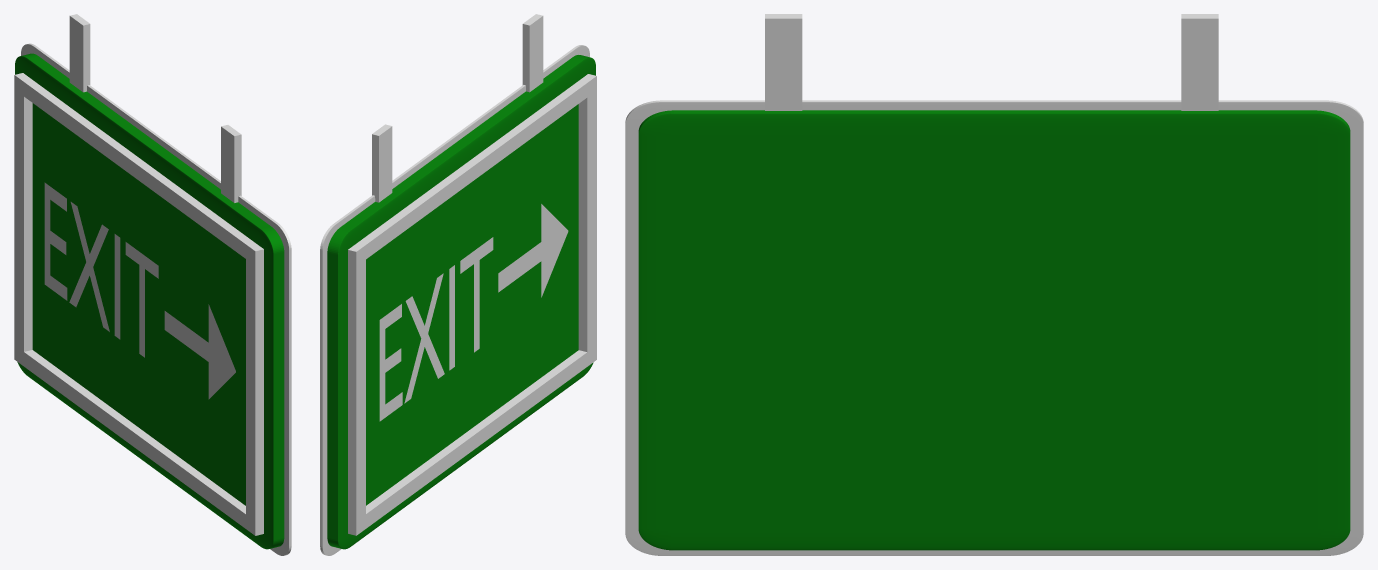
The model's file is Exit right.fbx.
3 renders of one model, left to right at view 1: azimuth 30°, elevation 25°; view 2: azimuth 150°, elevation 25°; view 3: azimuth 270°, elevation 25°, orthographic. The views are drawn at different scales.
Visible parts, largest first — view 1: Cube.111, Cube.207, Cube.209, Text, Cube.216, Cube.217, Plane.001, Plane; view 2: Cube.111, Cube.207, Cube.209, Text, Cube.217, Cube.216, Plane.001, Plane; view 3: Cube.111, Cube.209, Cube.216, Cube.217.
Part boxes in pixels (x1,y1,x2,y2): Cube.111: [15, 53, 284, 549]; Cube.207: [14, 73, 263, 535]; Cube.209: [21, 43, 291, 555]; Text: [44, 182, 158, 357]; Cube.216: [69, 14, 90, 92]; Cube.217: [221, 125, 241, 202]; Plane.001: [208, 304, 235, 399]; Plane: [164, 311, 209, 362]; Cube.111: [327, 55, 595, 549]; Cube.207: [348, 74, 596, 535]; Cube.209: [320, 45, 589, 555]; Text: [379, 237, 493, 421]; Cube.217: [522, 14, 543, 92]; Cube.216: [372, 124, 392, 202]; Plane.001: [541, 204, 568, 297]; Plane: [498, 240, 543, 292]; Cube.111: [638, 110, 1350, 550]; Cube.209: [625, 100, 1363, 555]; Cube.216: [1181, 14, 1218, 110]; Cube.217: [765, 14, 802, 110].
Bounding box in the file's own units: 10.34 × 139 × 173.
